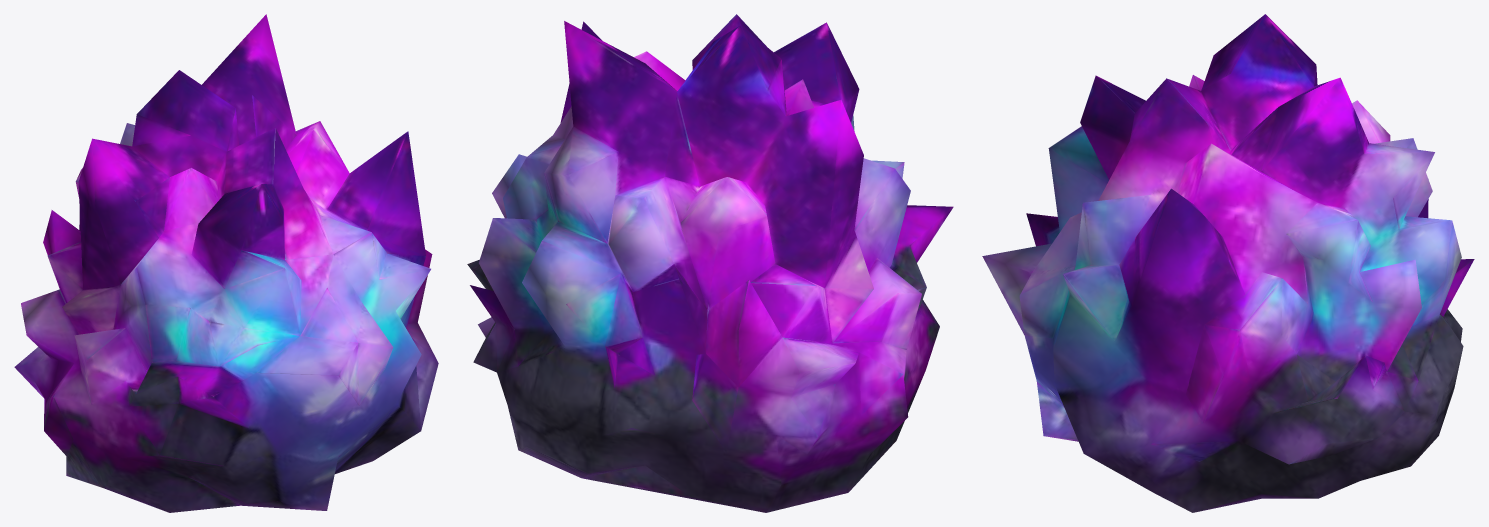
The model's file is p_vibrant_han.glb.
The picture shows the model from 3 angles, left to right: view 1: azimuth 30°, elevation 25°; view 2: azimuth 150°, elevation 25°; view 3: azimuth 270°, elevation 25°; orthographic projection. The views are drawn at different scales.
Visible parts, largest first — view 1: Mesh_0; view 2: Mesh_0; view 3: Mesh_0.
Boxes of the visible parts, left/top/right/bottom form: Mesh_0: left=14, top=14, right=438, bottom=512; Mesh_0: left=467, top=14, right=953, bottom=512; Mesh_0: left=982, top=14, right=1474, bottom=512.
Size of the model in its own units: 1.81 by 1.79 by 1.94.
1 material, 1 textured.
